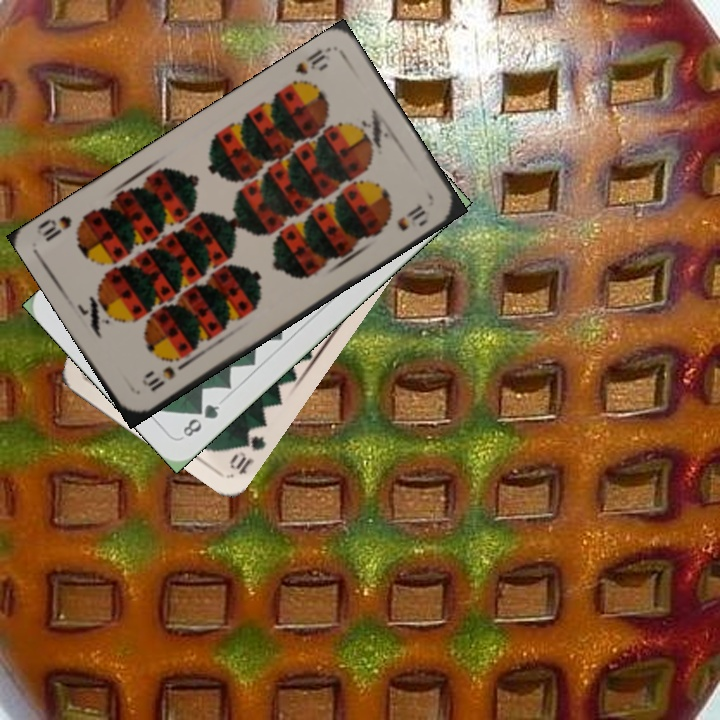G10: (225, 430, 269, 478)
G8: (178, 399, 223, 440)
S10: (139, 358, 190, 395), (291, 43, 333, 77)
